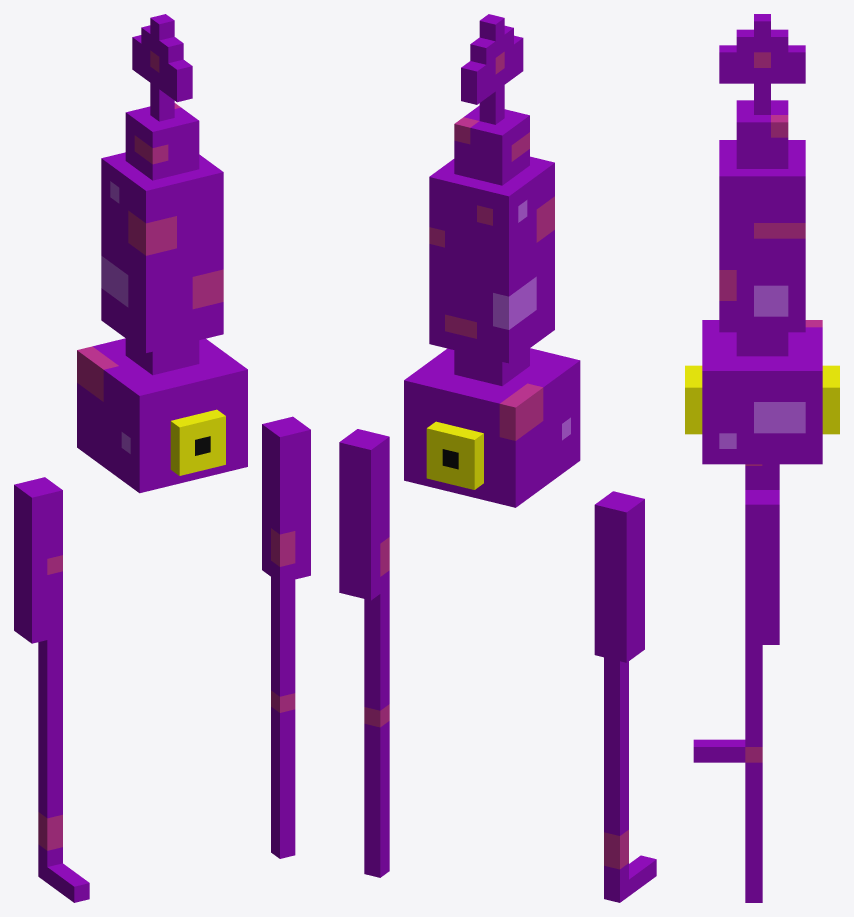
Rendered from SQUIDpurple.fbx.
The picture shows the model from 3 angles, left to right: view 1: azimuth 30°, elevation 25°; view 2: azimuth 150°, elevation 25°; view 3: azimuth 270°, elevation 25°; orthographic projection. The views are drawn at different scales.
Visible parts, largest first — view 1: Cube.17396, Cube.003, Cube.14149; view 2: Cube.17396, Cube.14149, Cube.003; view 3: Cube.17396, Cube.14149, Cube.003.
Boxes of the visible parts, bbox=[...] form: Cube.17396: bbox=[77, 14, 247, 493]; Cube.003: bbox=[14, 477, 89, 902]; Cube.14149: bbox=[262, 416, 310, 858]; Cube.17396: bbox=[404, 14, 580, 507]; Cube.14149: bbox=[339, 429, 389, 877]; Cube.003: bbox=[594, 491, 656, 902]; Cube.17396: bbox=[685, 14, 839, 464]; Cube.14149: bbox=[745, 490, 779, 902]; Cube.003: bbox=[693, 464, 779, 762].
Bounding box in the file's own units: 900 × 1800 × 5300.
